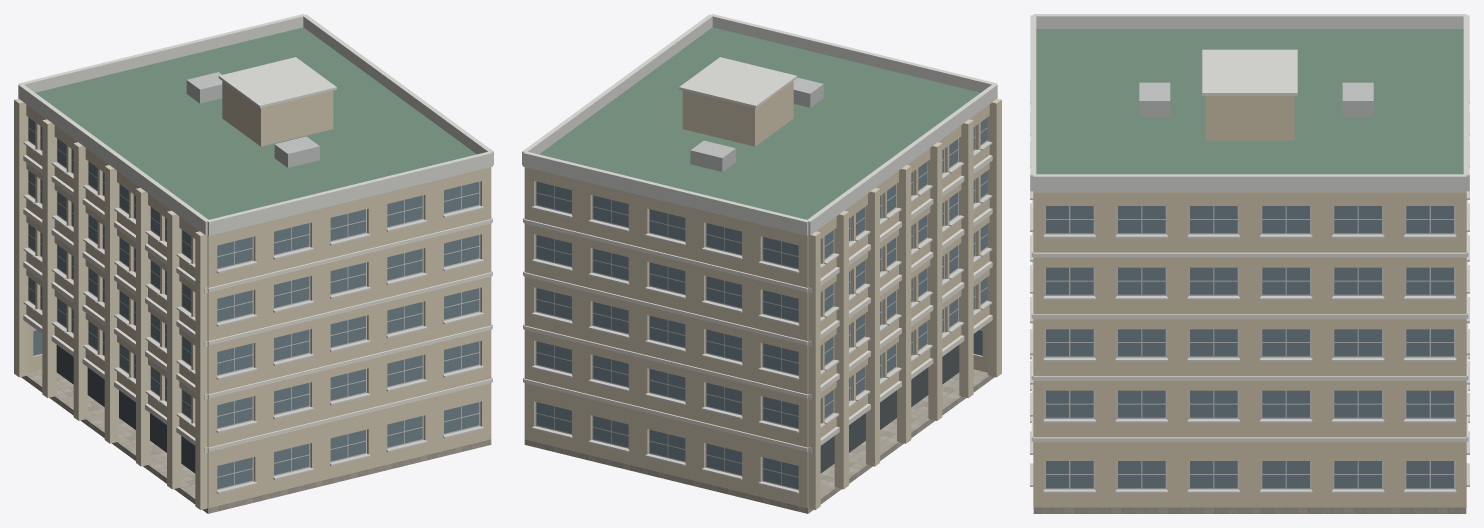
The picture shows the model from 3 angles, left to right: view 1: azimuth 30°, elevation 25°; view 2: azimuth 150°, elevation 25°; view 3: azimuth 270°, elevation 25°; orthographic projection. The views are drawn at different scales.
Visible parts, largest first — view 1: main-sw__paint, main-sw__roof, main-sw__glass, main-sw__pier, main-sw__cap, main-sw__band, main-sw__sill, main-sw__frame, main-sw__stone, main-sw__pilotis-glass, main-sw__plant; view 2: main-sw__paint, main-sw__roof, main-sw__glass, main-sw__pier, main-sw__cap, main-sw__band, main-sw__sill, main-sw__frame, main-sw__stone, main-sw__pilotis-glass, main-sw__plant; view 3: main-sw__paint, main-sw__roof, main-sw__glass, main-sw__cap, main-sw__band, main-sw__frame, main-sw__sill, main-sw__stone, main-sw__plant.
Boxes of the visible parts, box(x1,y1,x2,y2) form: main-sw__paint: box(26, 81, 491, 508); main-sw__roof: box(35, 27, 476, 219); main-sw__glass: box(28, 117, 479, 488); main-sw__pier: box(14, 98, 207, 509); main-sw__cap: box(18, 14, 493, 235); main-sw__band: box(23, 155, 492, 452); main-sw__sill: box(23, 141, 483, 493); main-sw__frame: box(28, 126, 480, 489); main-sw__stone: box(21, 369, 491, 513); main-sw__pilotis-glass: box(56, 345, 195, 473); main-sw__plant: box(186, 72, 319, 167); main-sw__paint: box(524, 81, 989, 508); main-sw__roof: box(539, 27, 980, 219); main-sw__glass: box(536, 117, 987, 488); main-sw__pier: box(808, 98, 1001, 509); main-sw__cap: box(522, 14, 997, 235); main-sw__band: box(523, 155, 992, 452); main-sw__sill: box(532, 141, 992, 493); main-sw__frame: box(535, 126, 987, 489); main-sw__stone: box(524, 369, 994, 513); main-sw__pilotis-glass: box(820, 345, 959, 473); main-sw__plant: box(690, 77, 823, 171); main-sw__paint: box(1033, 96, 1466, 507); main-sw__roof: box(1036, 29, 1463, 174); main-sw__glass: box(1046, 206, 1453, 488); main-sw__cap: box(1030, 14, 1469, 192); main-sw__band: box(1031, 200, 1468, 442); main-sw__frame: box(1044, 206, 1455, 489); main-sw__sill: box(1030, 80, 1469, 493); main-sw__stone: box(1033, 507, 1466, 513); main-sw__plant: box(1139, 82, 1373, 116).
Bounding box in the file's own units: 20.17 × 21.32 × 22.66.
Materials: 12 (1 with a texture image).
